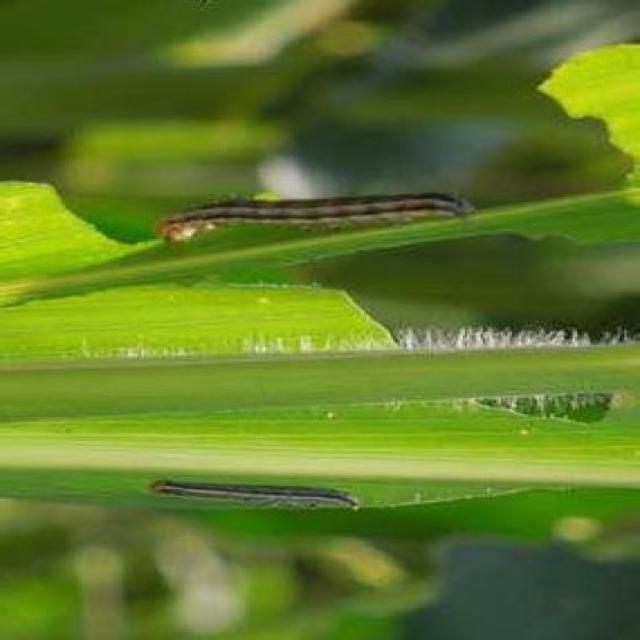army worm: (155, 192, 476, 253), (135, 481, 366, 513)
